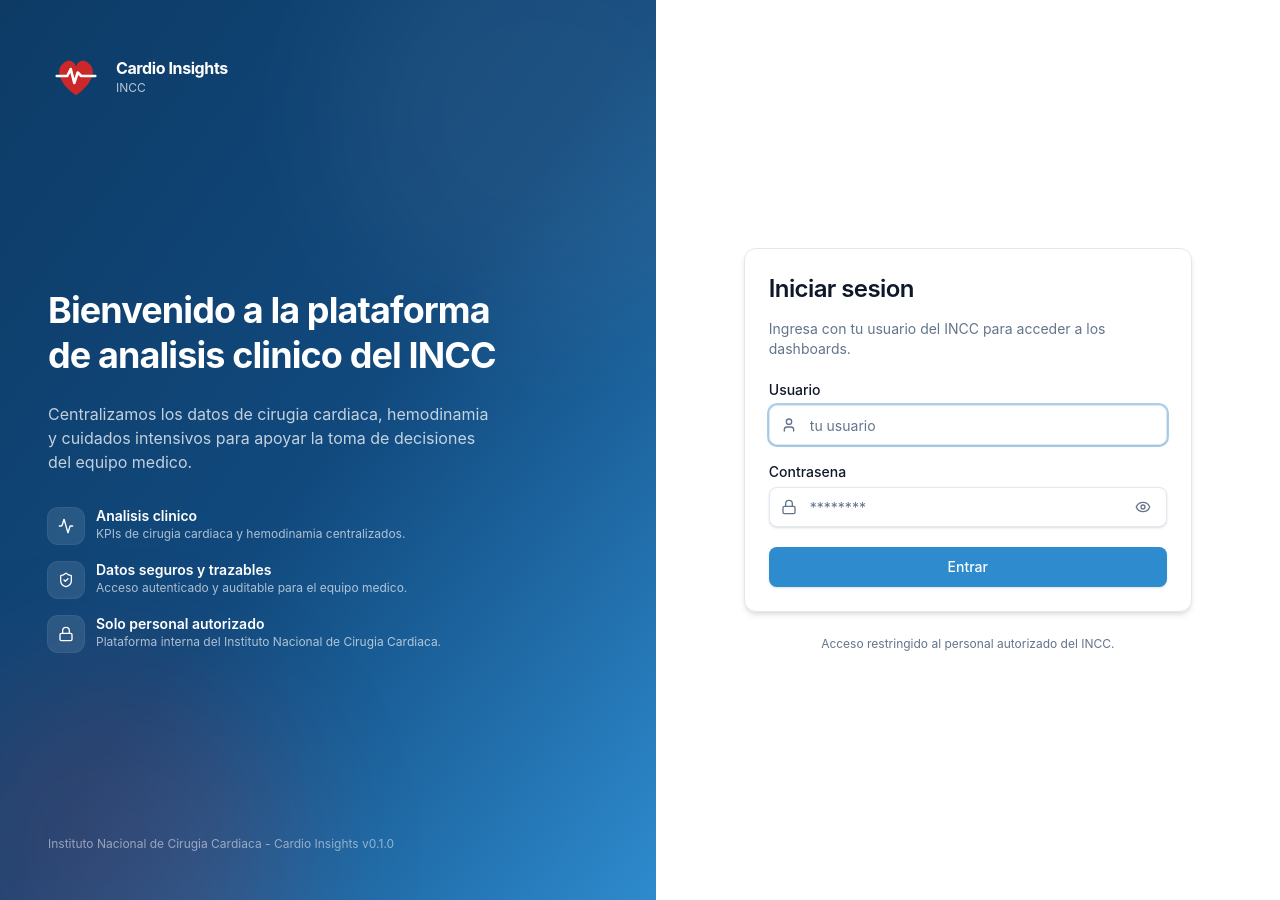
Test case: LoginPage › muestra mensaje de red si status es 0
In the field labelled "Usuario": (968, 425) [769,405,1167,445], type "a"
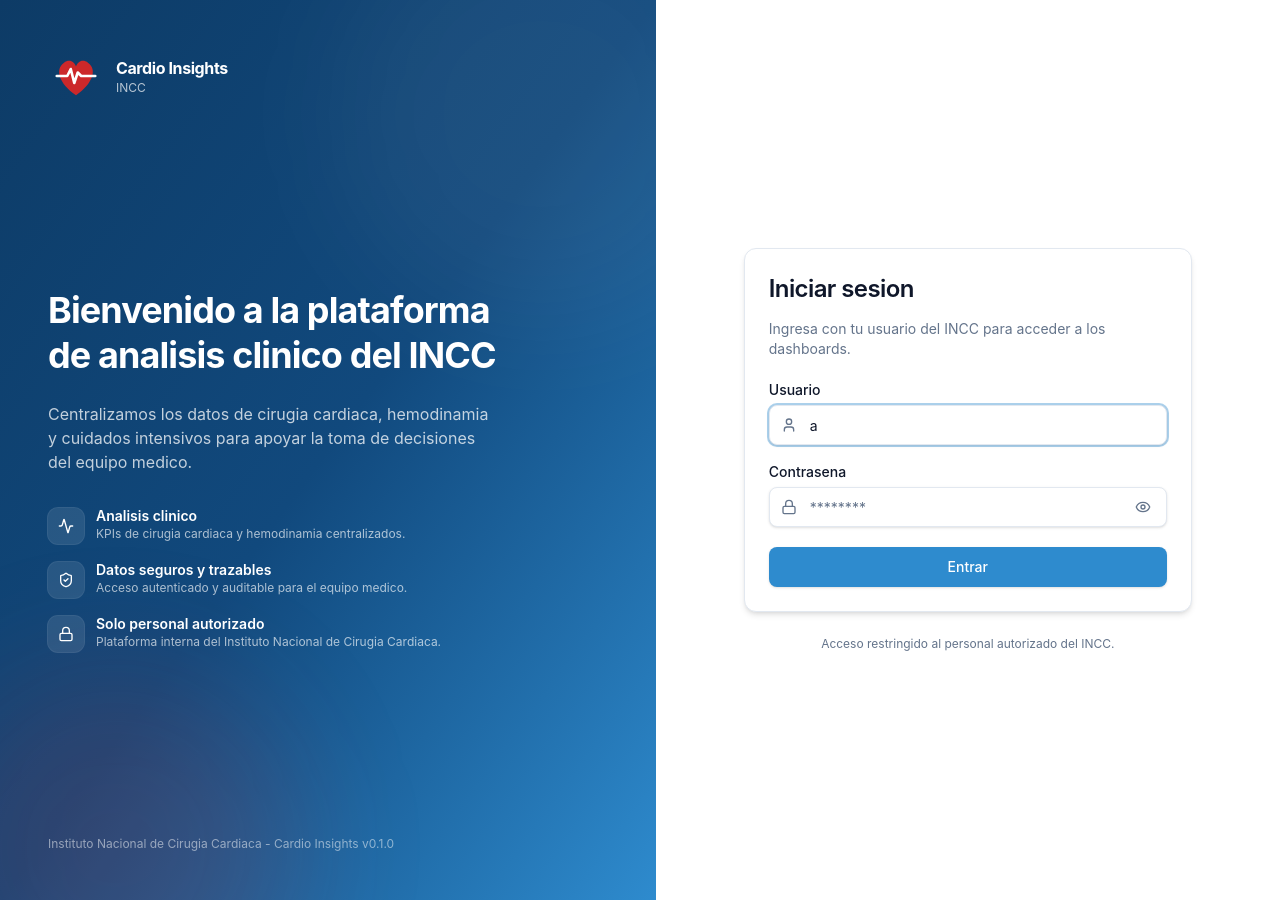
In the password field labelled "Contrasena": (968, 507) [769,487,1167,527], type "b"
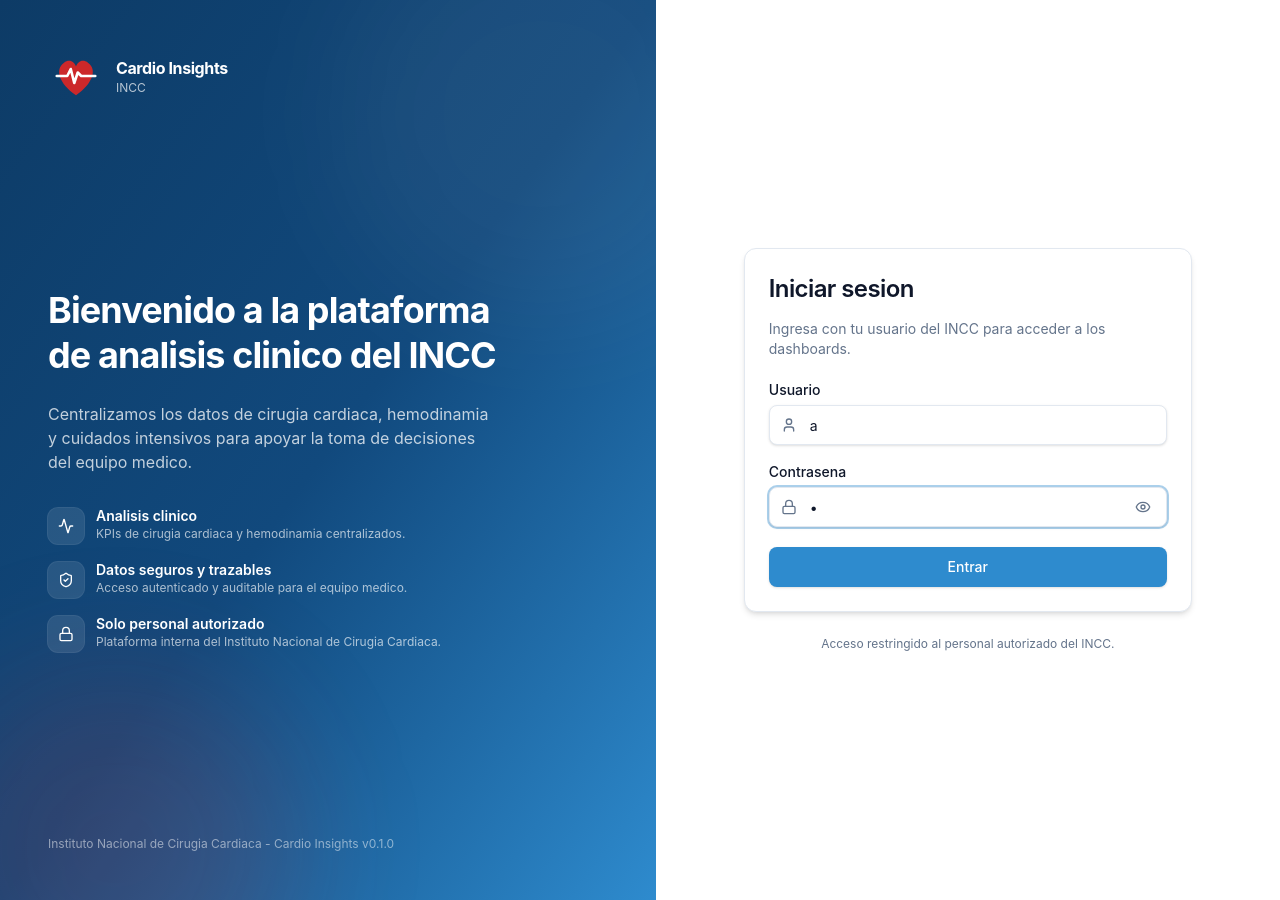
Click the button "Entrar": click(968, 567) [769,547,1167,587]
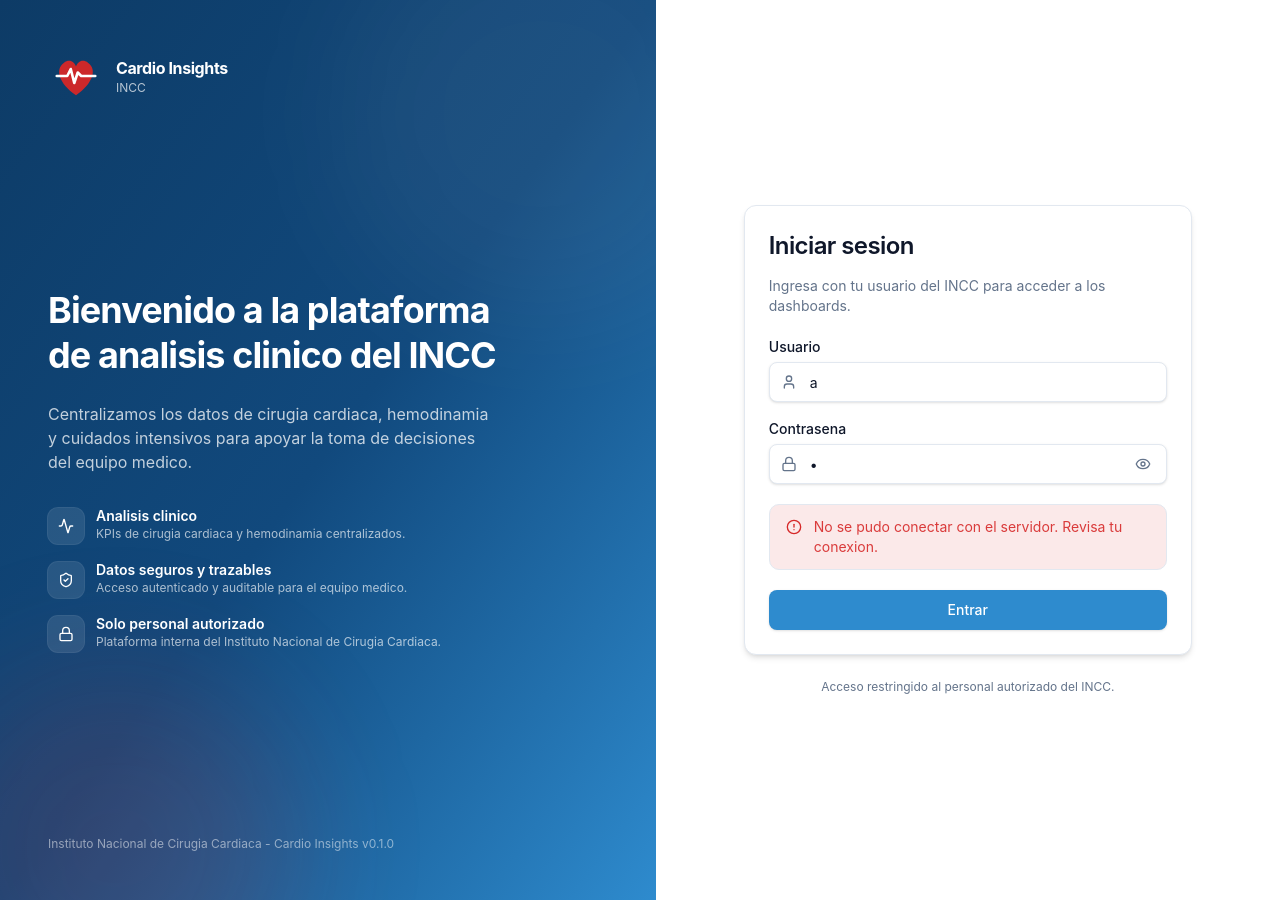
Result: the text "No se pudo conectar con el servidor. Revisa tu conexion." is shown at [814,517,1150,557]
